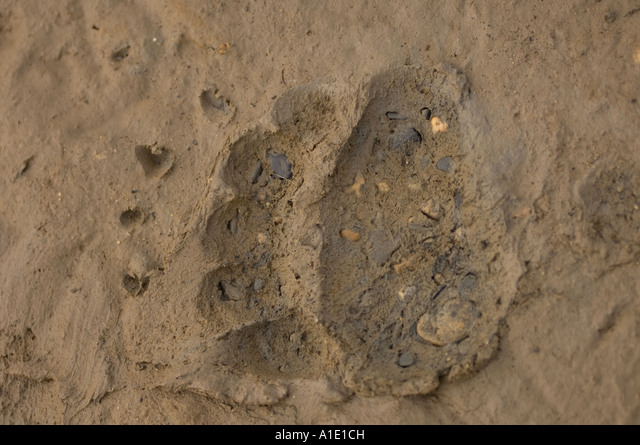bear: (99, 50, 533, 414)
